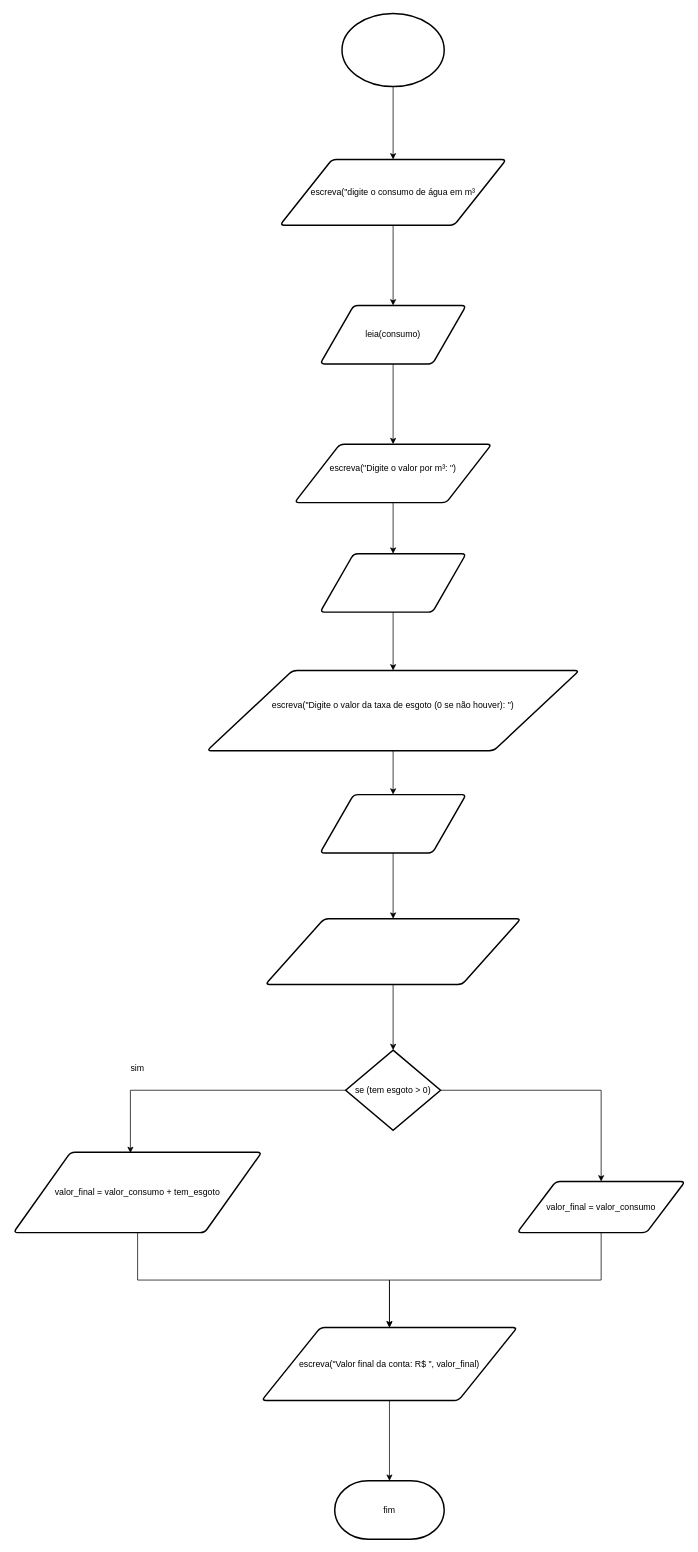
Image size: 698x1552. Some labels were removed from this diagram. The shapes that lost their labels are listed below. From the top down, each one's centre as x and y in pixels, then its label:
At [393,49]: "início".
At [392,582]: "leia(valor_m3)".
At [392,823]: "leia(tem_esgoto)".
At [392,951]: "valor_consumo = consumo * valor_m3".
